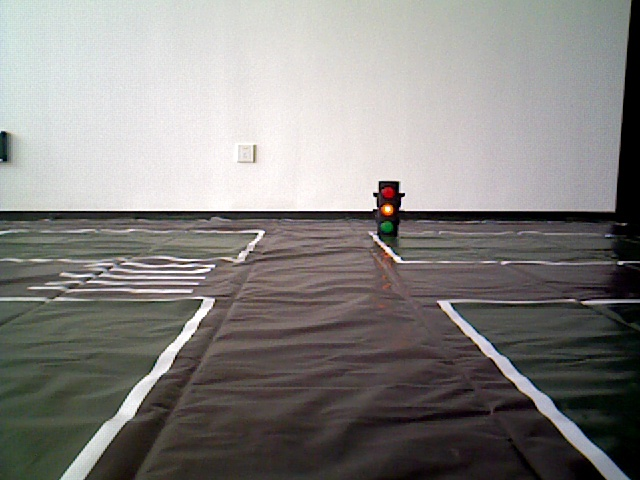yellow: (374, 183, 402, 243)
